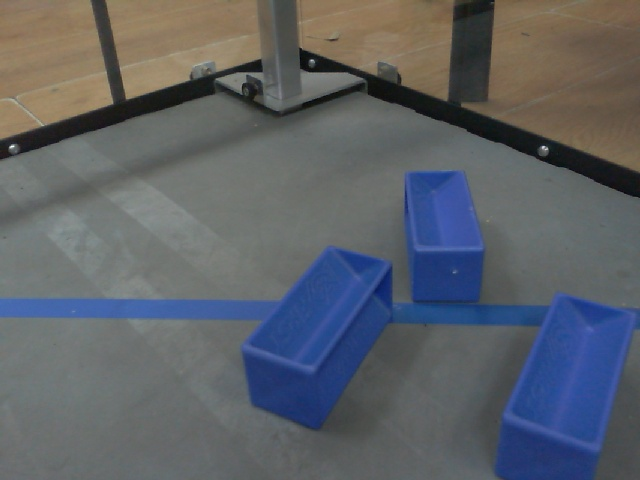BlueSample: (240, 245, 395, 439), (491, 289, 640, 479), (401, 169, 491, 302)
